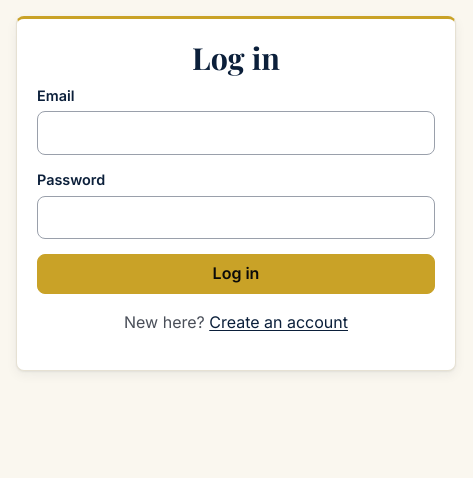
Test: Login › shows the lockout message from a 423
Type "asha@pes.edu" into the field labelled "Email" at (236, 133), box 37,111 -> 435,155
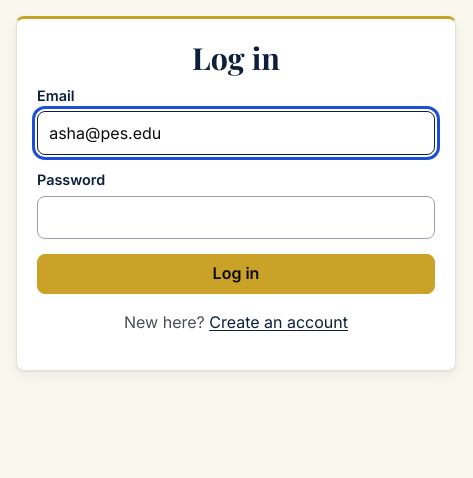
Type "wrong1234" into the password field labelled "Password" at (236, 218), box 37,196 -> 435,239
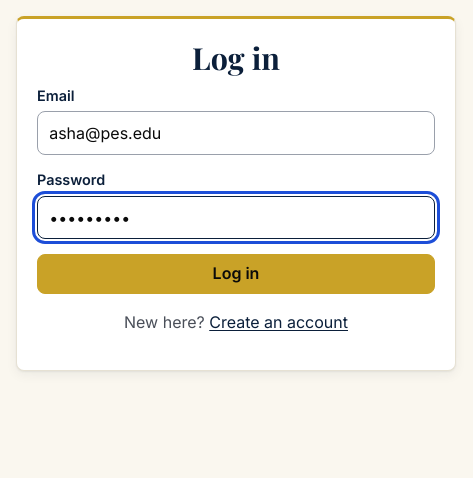
Click the button "Log in" at (236, 274), box 37,254 -> 435,294
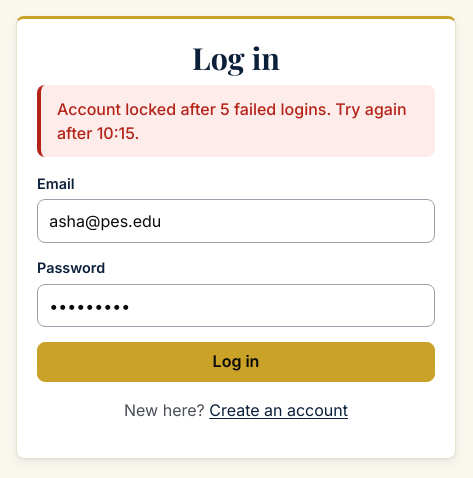
Expected: the message shows "Try again after 10:15", 57,99 -> 407,143
